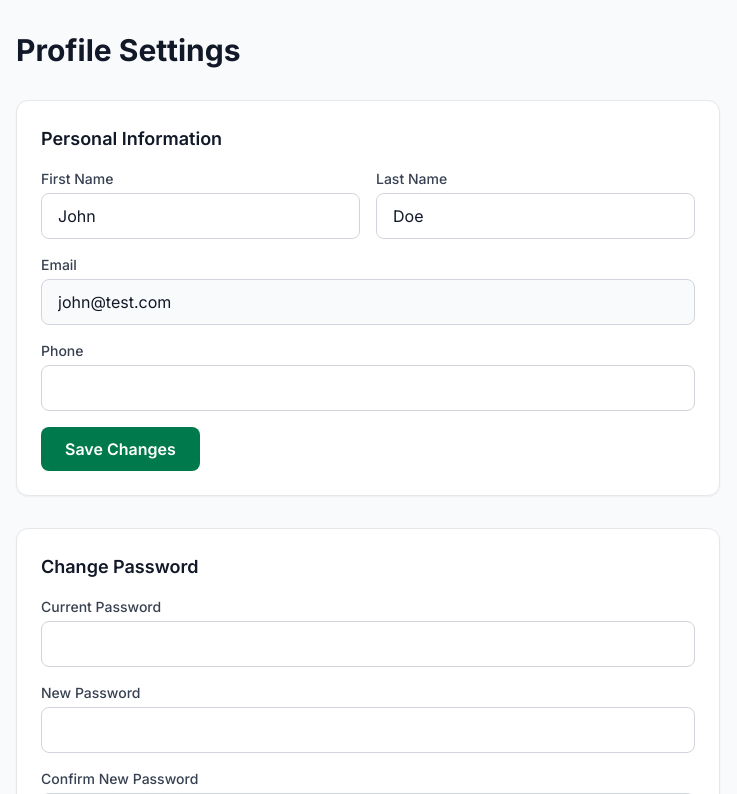
ProfilePage › should show error when passwords do not match
This screenshot has width=737, height=794.
Type "oldPass123" into the password field below "Current Password".
click(368, 644); type("oldPass123")  # box [41,621,695,667]
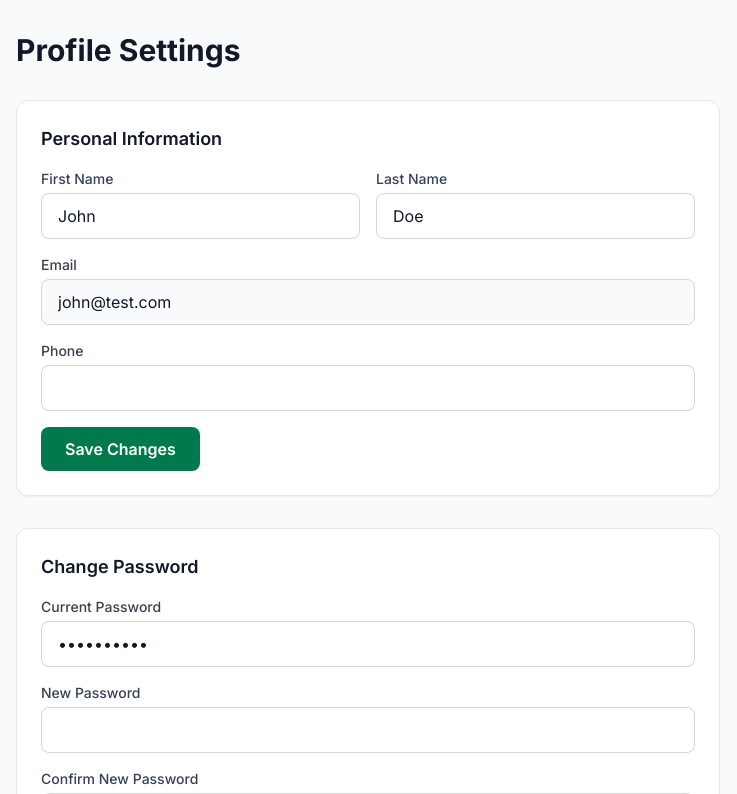
Type "newPass456" into the 2nd password field.
click(368, 730); type("newPass456")  # box [41,707,695,753]
(page scrolled)
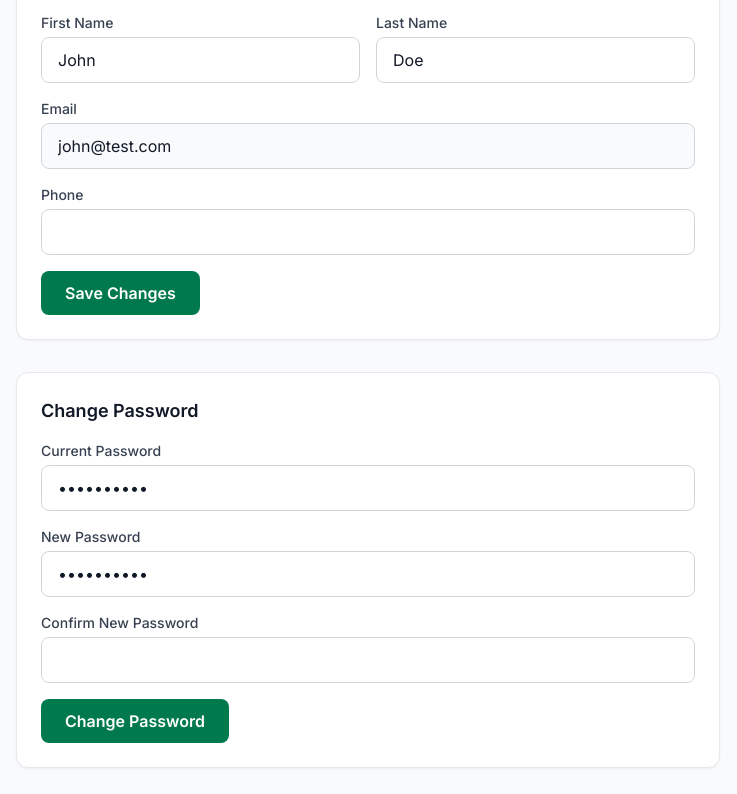
Type "different789" into the password field below "Confirm New Password".
click(368, 660); type("different789")  # box [41,637,695,683]
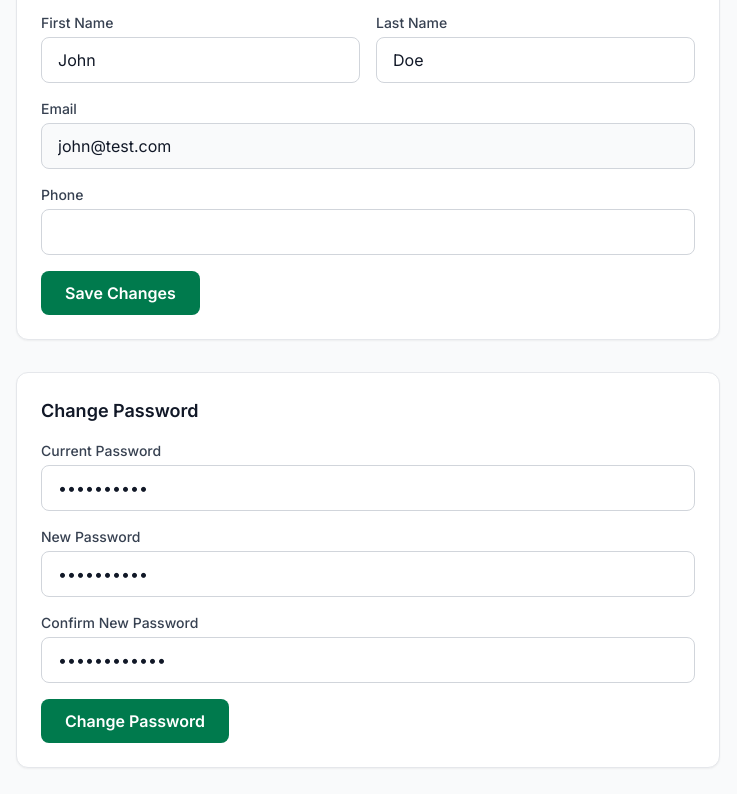
Submit the form that starts with "Current Password", box [41,441,695,743]
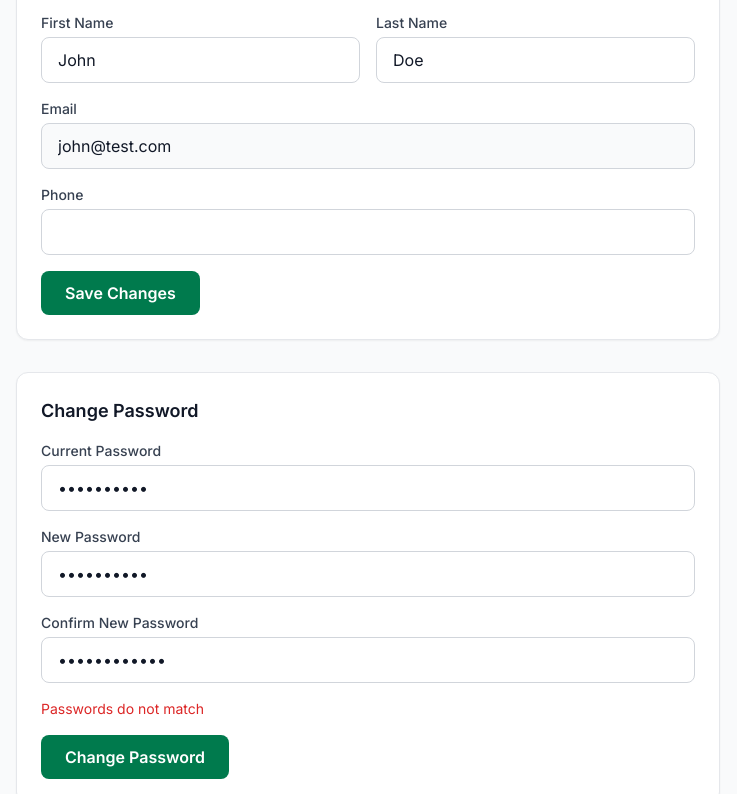
Now the text "Passwords do not match" is shown, box [41,700,204,717]
